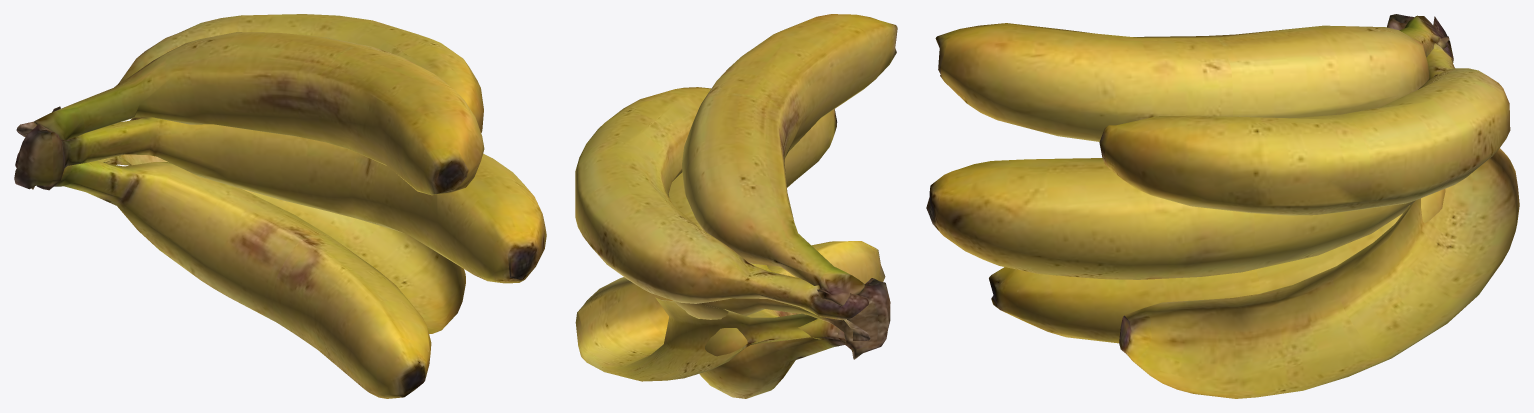
The model's file is banany_kisc.glb.
3 renders of one model, left to right at view 1: azimuth 30°, elevation 25°; view 2: azimuth 150°, elevation 25°; view 3: azimuth 270°, elevation 25°, orthographic. The views are drawn at different scales.
Parts seen in each view (by area): view 1: banany; view 2: banany; view 3: banany.
Boxes of the visible parts, x1=… form: banany: x1=14, y1=14, x2=546, y2=398; banany: x1=575, y1=14, x2=897, y2=398; banany: x1=926, y1=14, x2=1519, y2=398.
Size of the model in its own units: 0.1787 by 0.1332 by 0.2228.
1 material, 1 textured.
